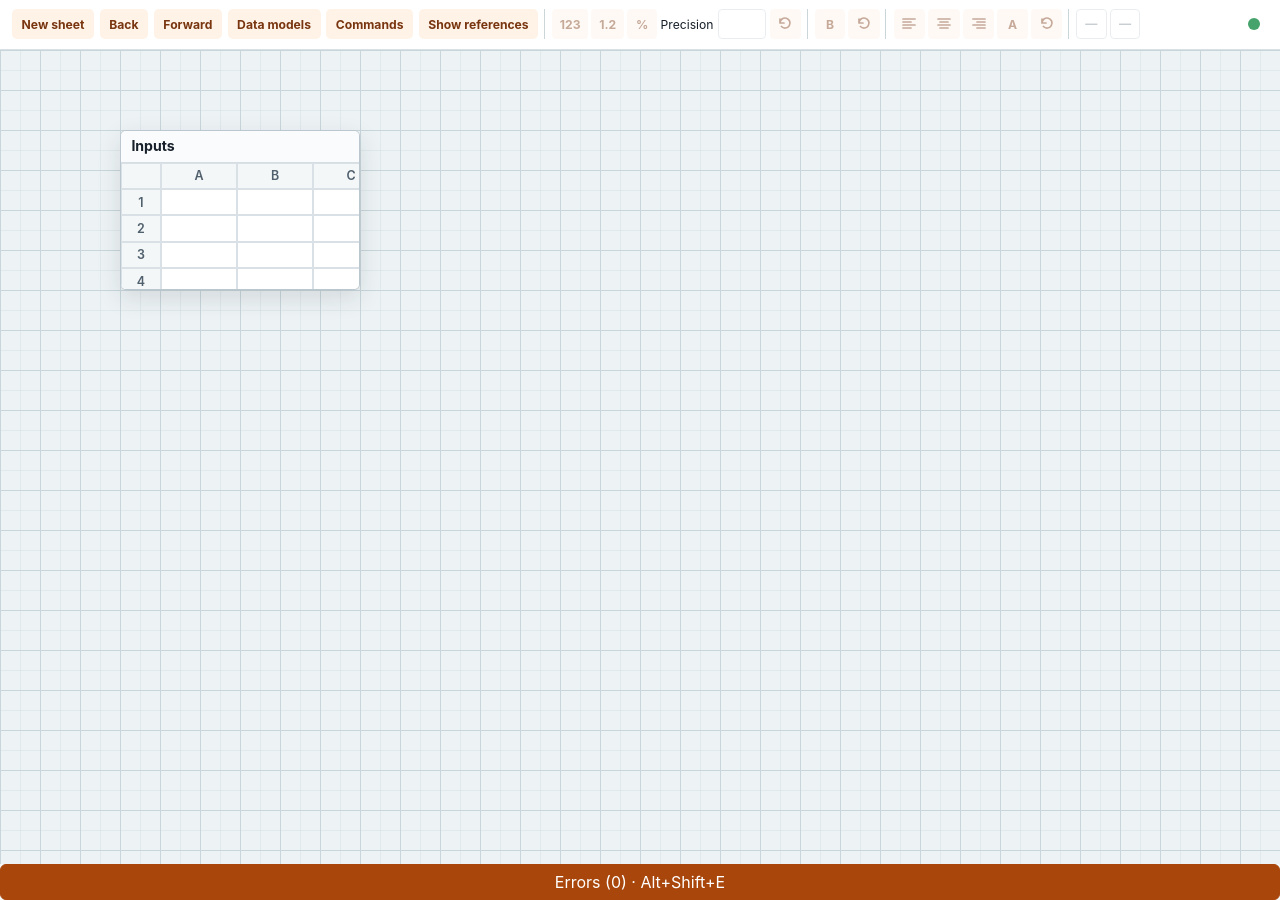
Test: App sheet management integration › wires the rename dialog to the selected workbook sheet
Right-click the element named "Sheet Inputs" at (240, 210), box [120, 130, 360, 290]
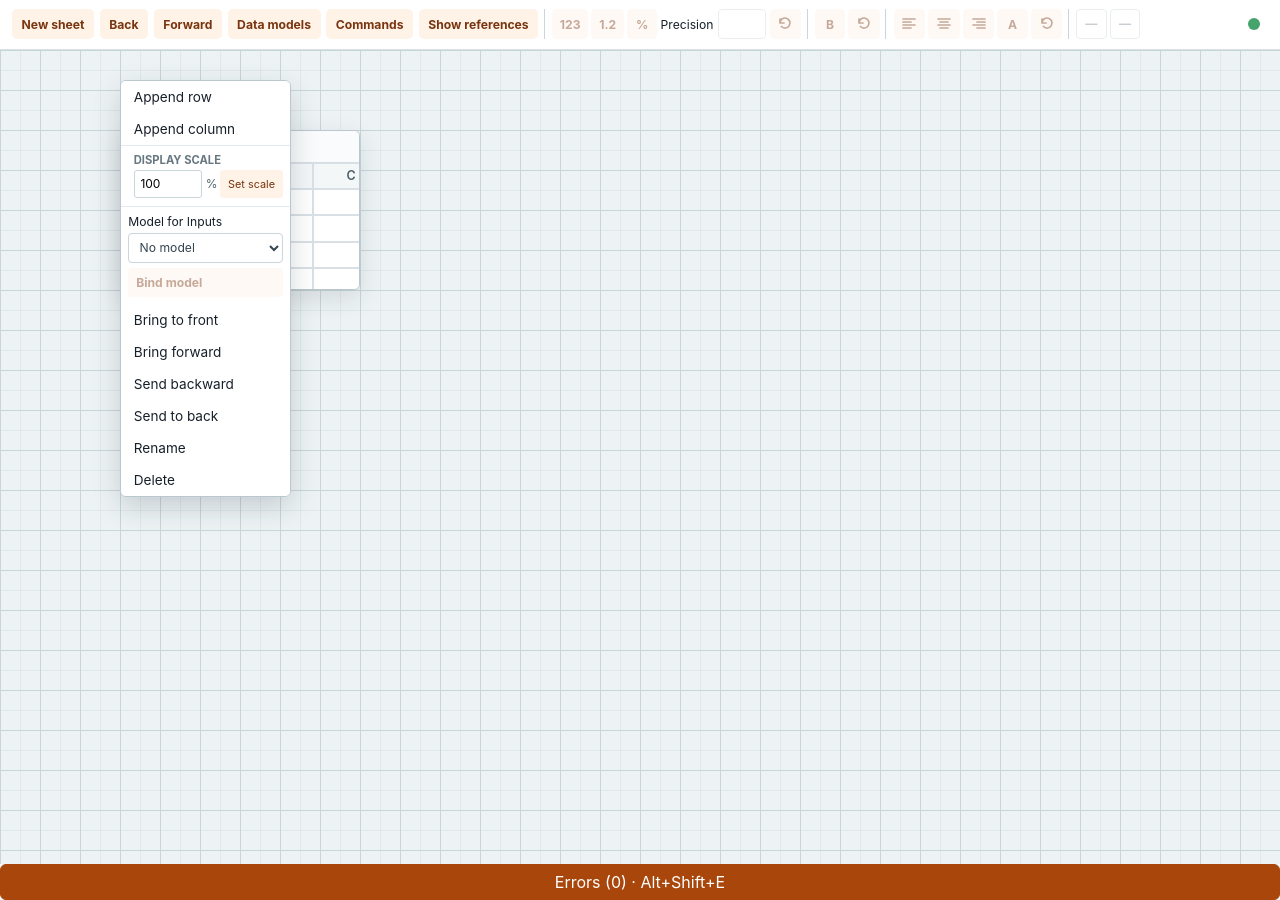
Click the menu item "Rename" at (206, 448), box [121, 432, 290, 464]
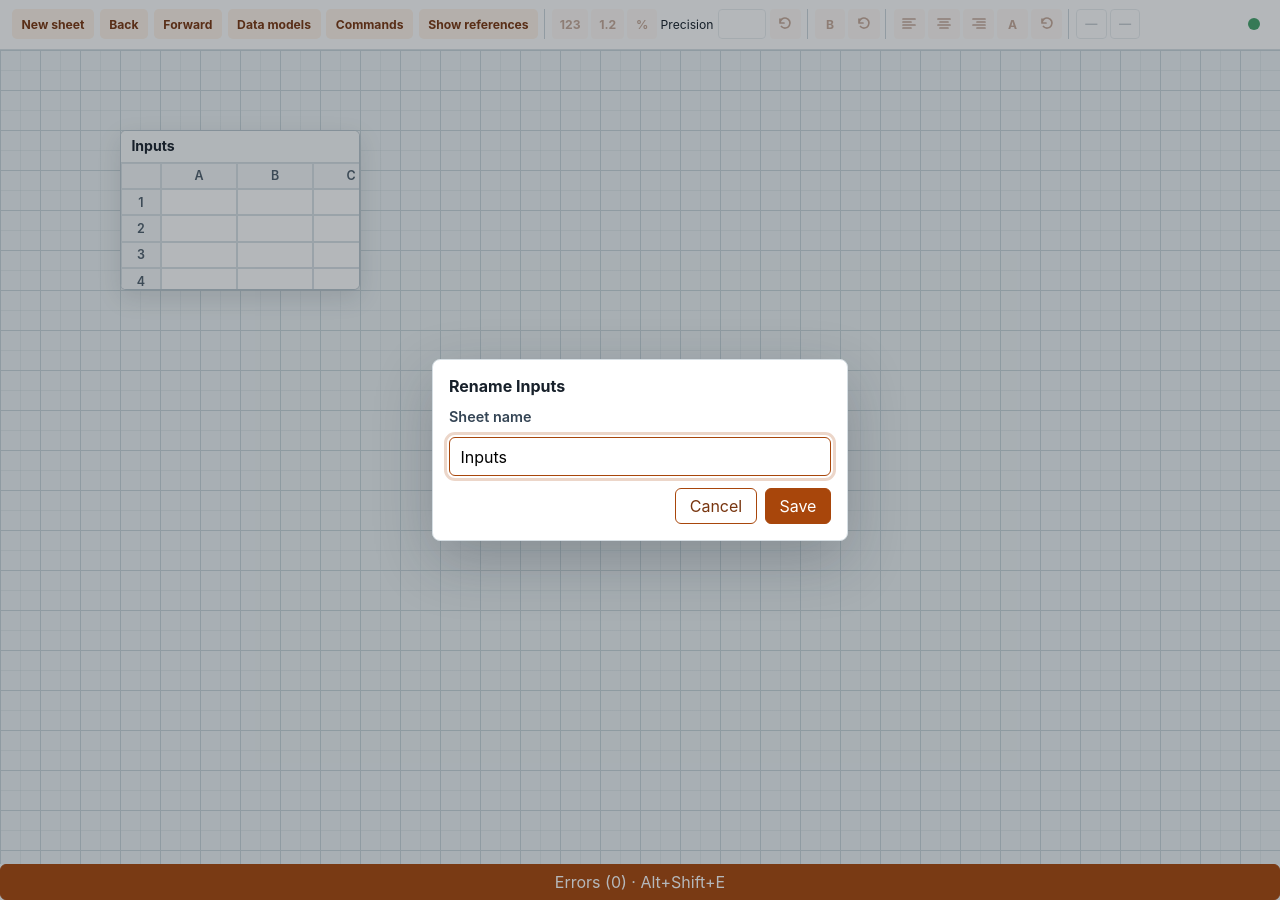
Replace the text in the field labelled "Sheet name" with "Renamed Inputs" at (640, 456), box [449, 437, 831, 476]
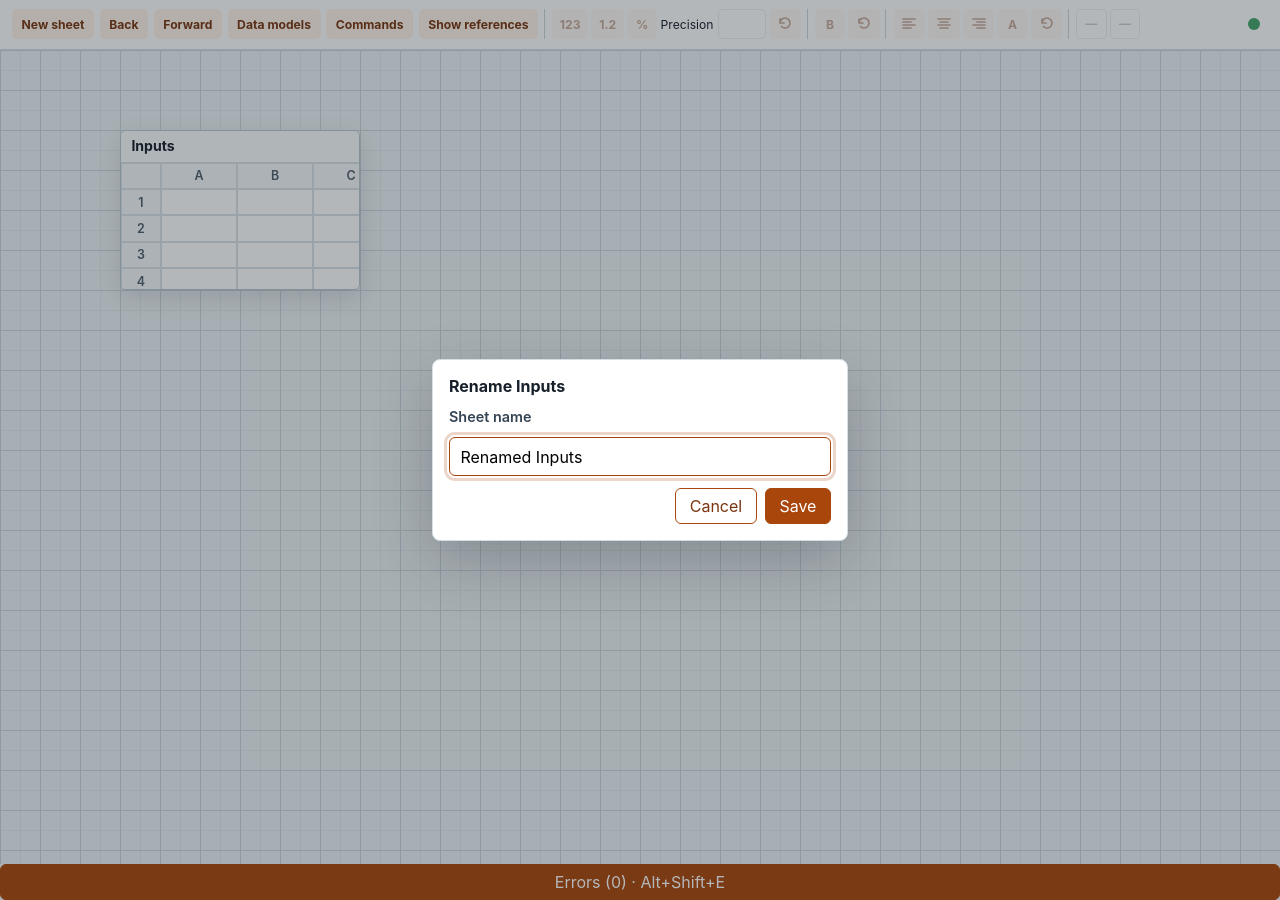
Click the button "Save" at (798, 506), box [765, 488, 831, 524]
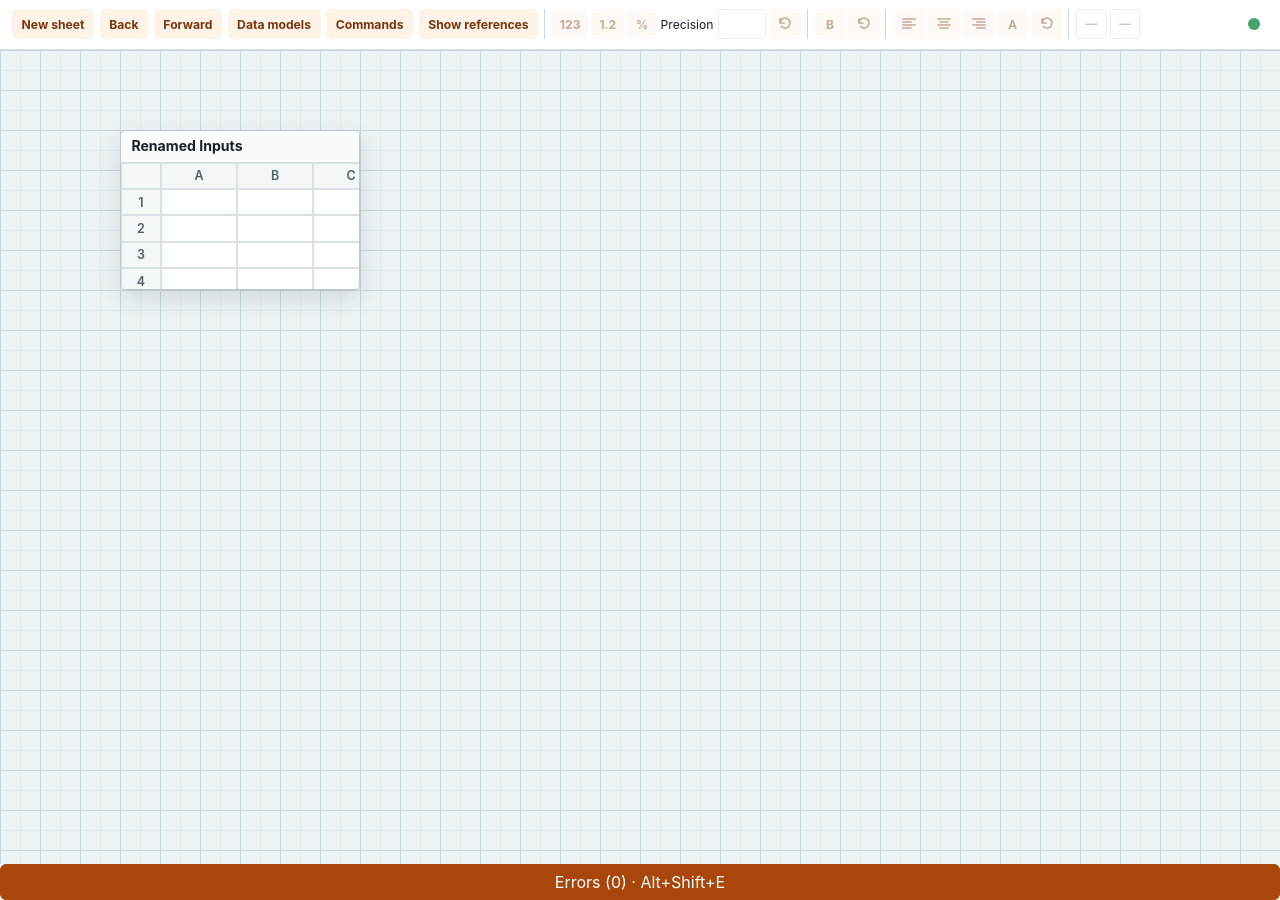
Now the element named "Sheet Renamed Inputs" is shown, box [120, 130, 360, 290]
